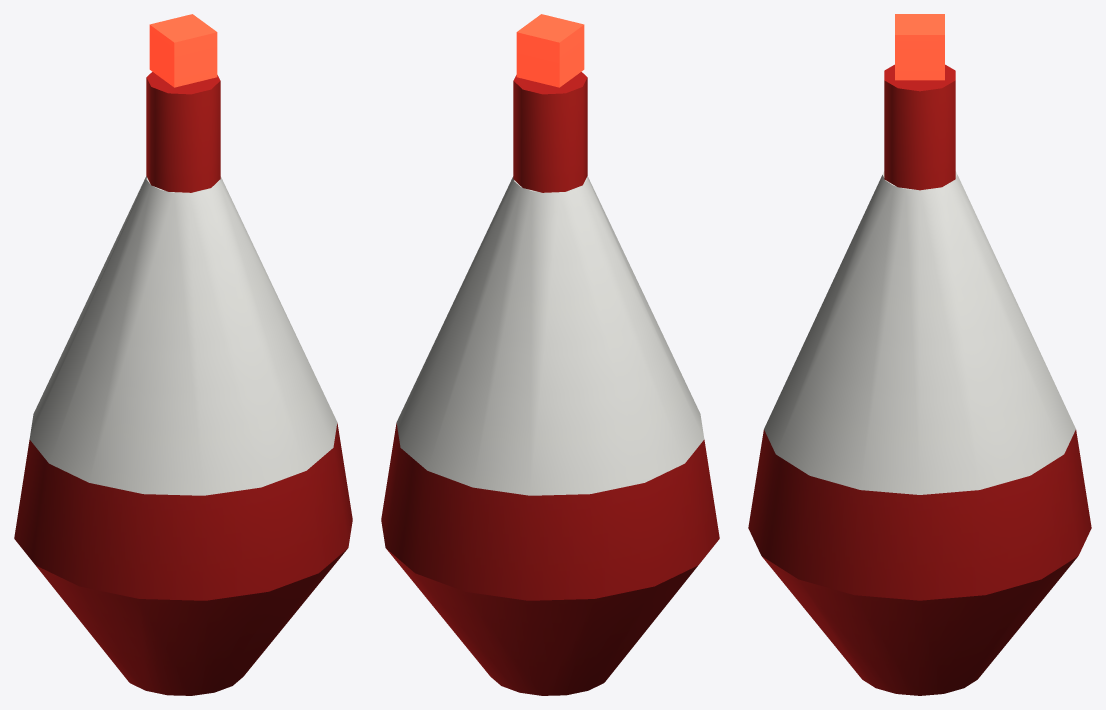
Rendered from Buoy.fbx.
3 views of the same model, side by side, from view 1: azimuth 30°, elevation 25°; view 2: azimuth 150°, elevation 25°; view 3: azimuth 270°, elevation 25° (orthographic).
Visible parts, largest first — view 1: Buoy_LOD0; view 2: Buoy_LOD0; view 3: Buoy_LOD0.
Boxes of the visible parts, box(x1,y1,x2,y2) form: Buoy_LOD0: box(14, 14, 352, 695); Buoy_LOD0: box(381, 14, 719, 695); Buoy_LOD0: box(748, 14, 1091, 695).
Size of what is drawn, in the model's own units: 1.1 by 2.28 by 1.1.
Materials: 1 (1 with a texture image).
